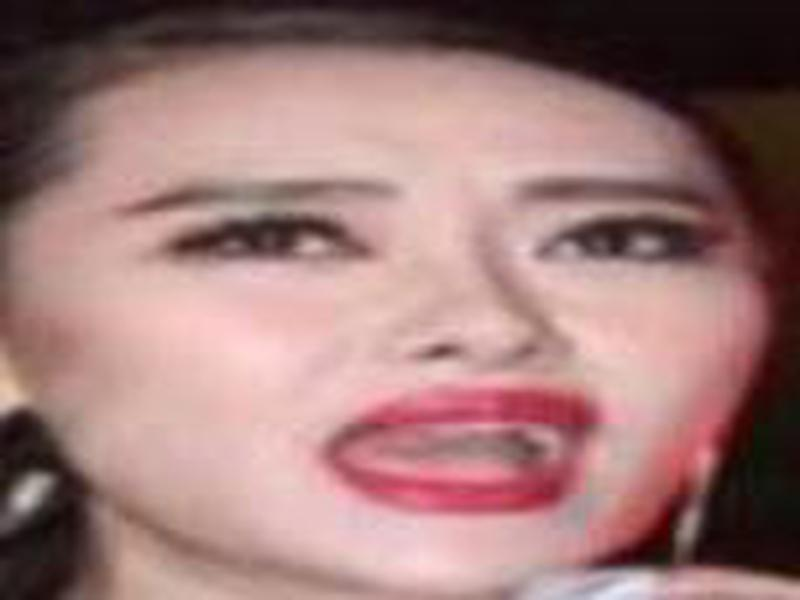without_mask: (38, 61, 748, 582)
